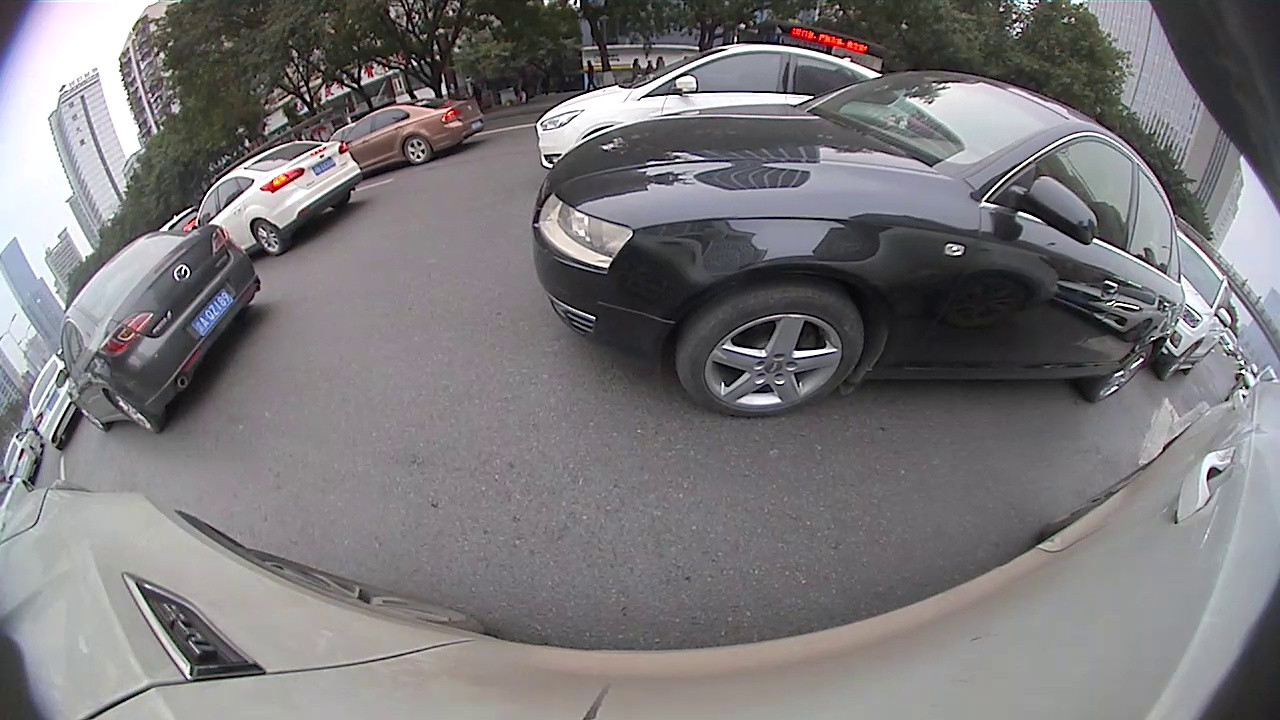car: (531, 66, 1185, 421), (538, 41, 888, 173), (51, 227, 262, 434), (194, 139, 364, 257), (1157, 228, 1235, 382), (338, 97, 486, 175), (27, 355, 85, 450), (0, 430, 41, 482)
front: (678, 285, 865, 419), (1160, 344, 1200, 383), (77, 406, 107, 432)
rear: (1089, 342, 1154, 405), (109, 390, 163, 434), (252, 220, 285, 257), (402, 135, 432, 165)
